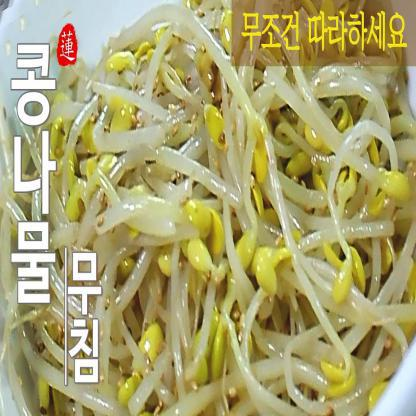bean sprouts: (108, 80, 408, 415)
